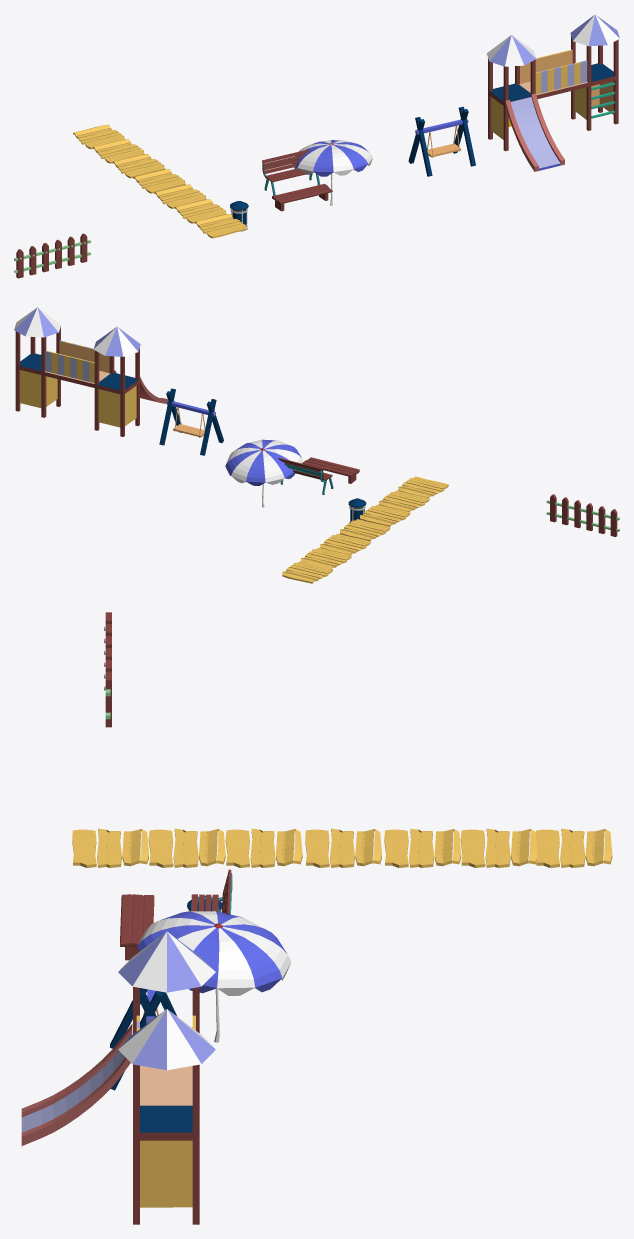
File: lv2_park.fbx
The picture shows the model from 3 angles, top to bottom: view 1: azimuth 30°, elevation 25°; view 2: azimuth 150°, elevation 25°; view 3: azimuth 270°, elevation 25°; orthographic projection. The views are drawn at different scales.
Visible parts, largest first — view 1: lv2_park, lv2_park_path, lv2_umbrella, lv2_swing, lv2_parkfence, lv2_bank, lv2_bench; view 2: lv2_park, lv2_park_path, lv2_umbrella, lv2_swing, lv2_parkfence, lv2_bank, lv2_bench; view 3: lv2_park, lv2_park_path, lv2_umbrella, lv2_bench, lv2_swing, lv2_bank, lv2_parkfence.
Boxes of the visible parts, x1,y1,x2,y2 form: lv2_park: [486, 14, 619, 171]; lv2_park_path: [73, 124, 247, 238]; lv2_umbrella: [293, 140, 372, 205]; lv2_swing: [408, 106, 475, 176]; lv2_parkfence: [14, 233, 90, 278]; lv2_bank: [262, 149, 320, 195]; lv2_bench: [272, 184, 332, 211]; lv2_park: [14, 307, 167, 436]; lv2_park_path: [282, 476, 448, 583]; lv2_umbrella: [225, 439, 302, 507]; lv2_swing: [159, 388, 223, 455]; lv2_parkfence: [546, 494, 619, 536]; lv2_bank: [278, 458, 333, 494]; lv2_bench: [302, 457, 359, 483]; lv2_park: [21, 931, 215, 1224]; lv2_park_path: [72, 828, 612, 867]; lv2_umbrella: [137, 911, 291, 1042]; lv2_bench: [120, 894, 154, 960]; lv2_swing: [110, 988, 177, 1090]; lv2_bank: [190, 869, 232, 914]; lv2_parkfence: [104, 612, 111, 727].
Size of the model in its own units: 5800 by 1250 by 2523.
